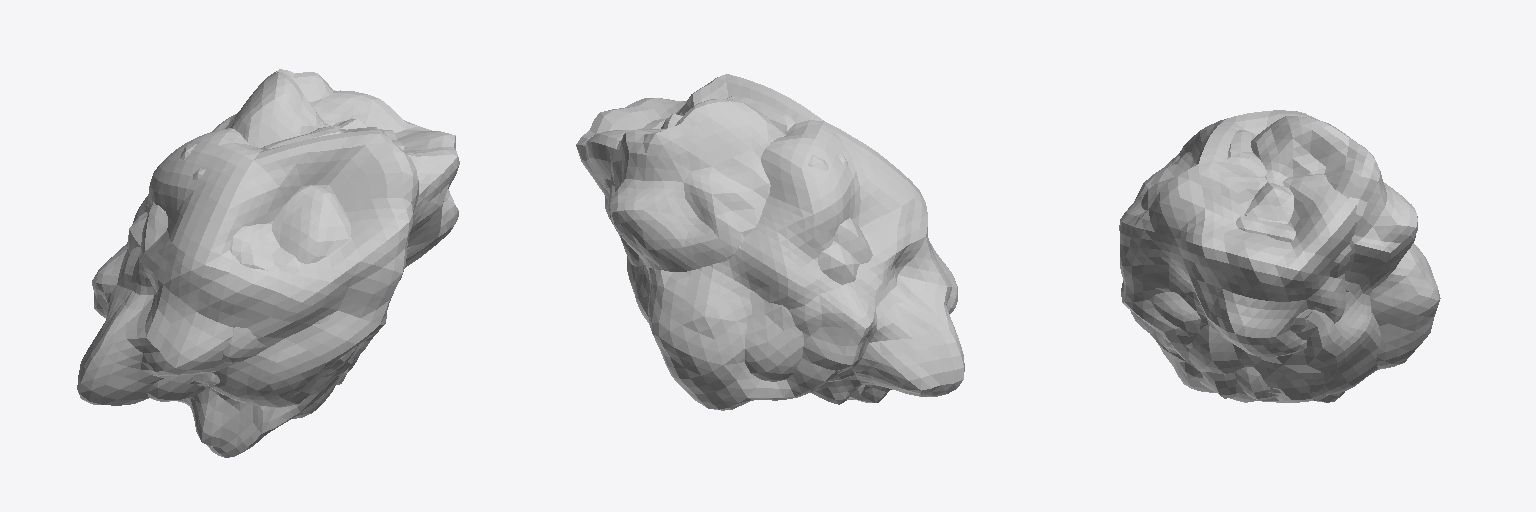
The model's file is asteroid_6.obj.
The picture shows the model from 3 angles: view 1: azimuth 30°, elevation 25°; view 2: azimuth 150°, elevation 25°; view 3: azimuth 270°, elevation 25°; orthographic projection.
Size of the model in its own units: 3.98 by 3.18 by 2.97.